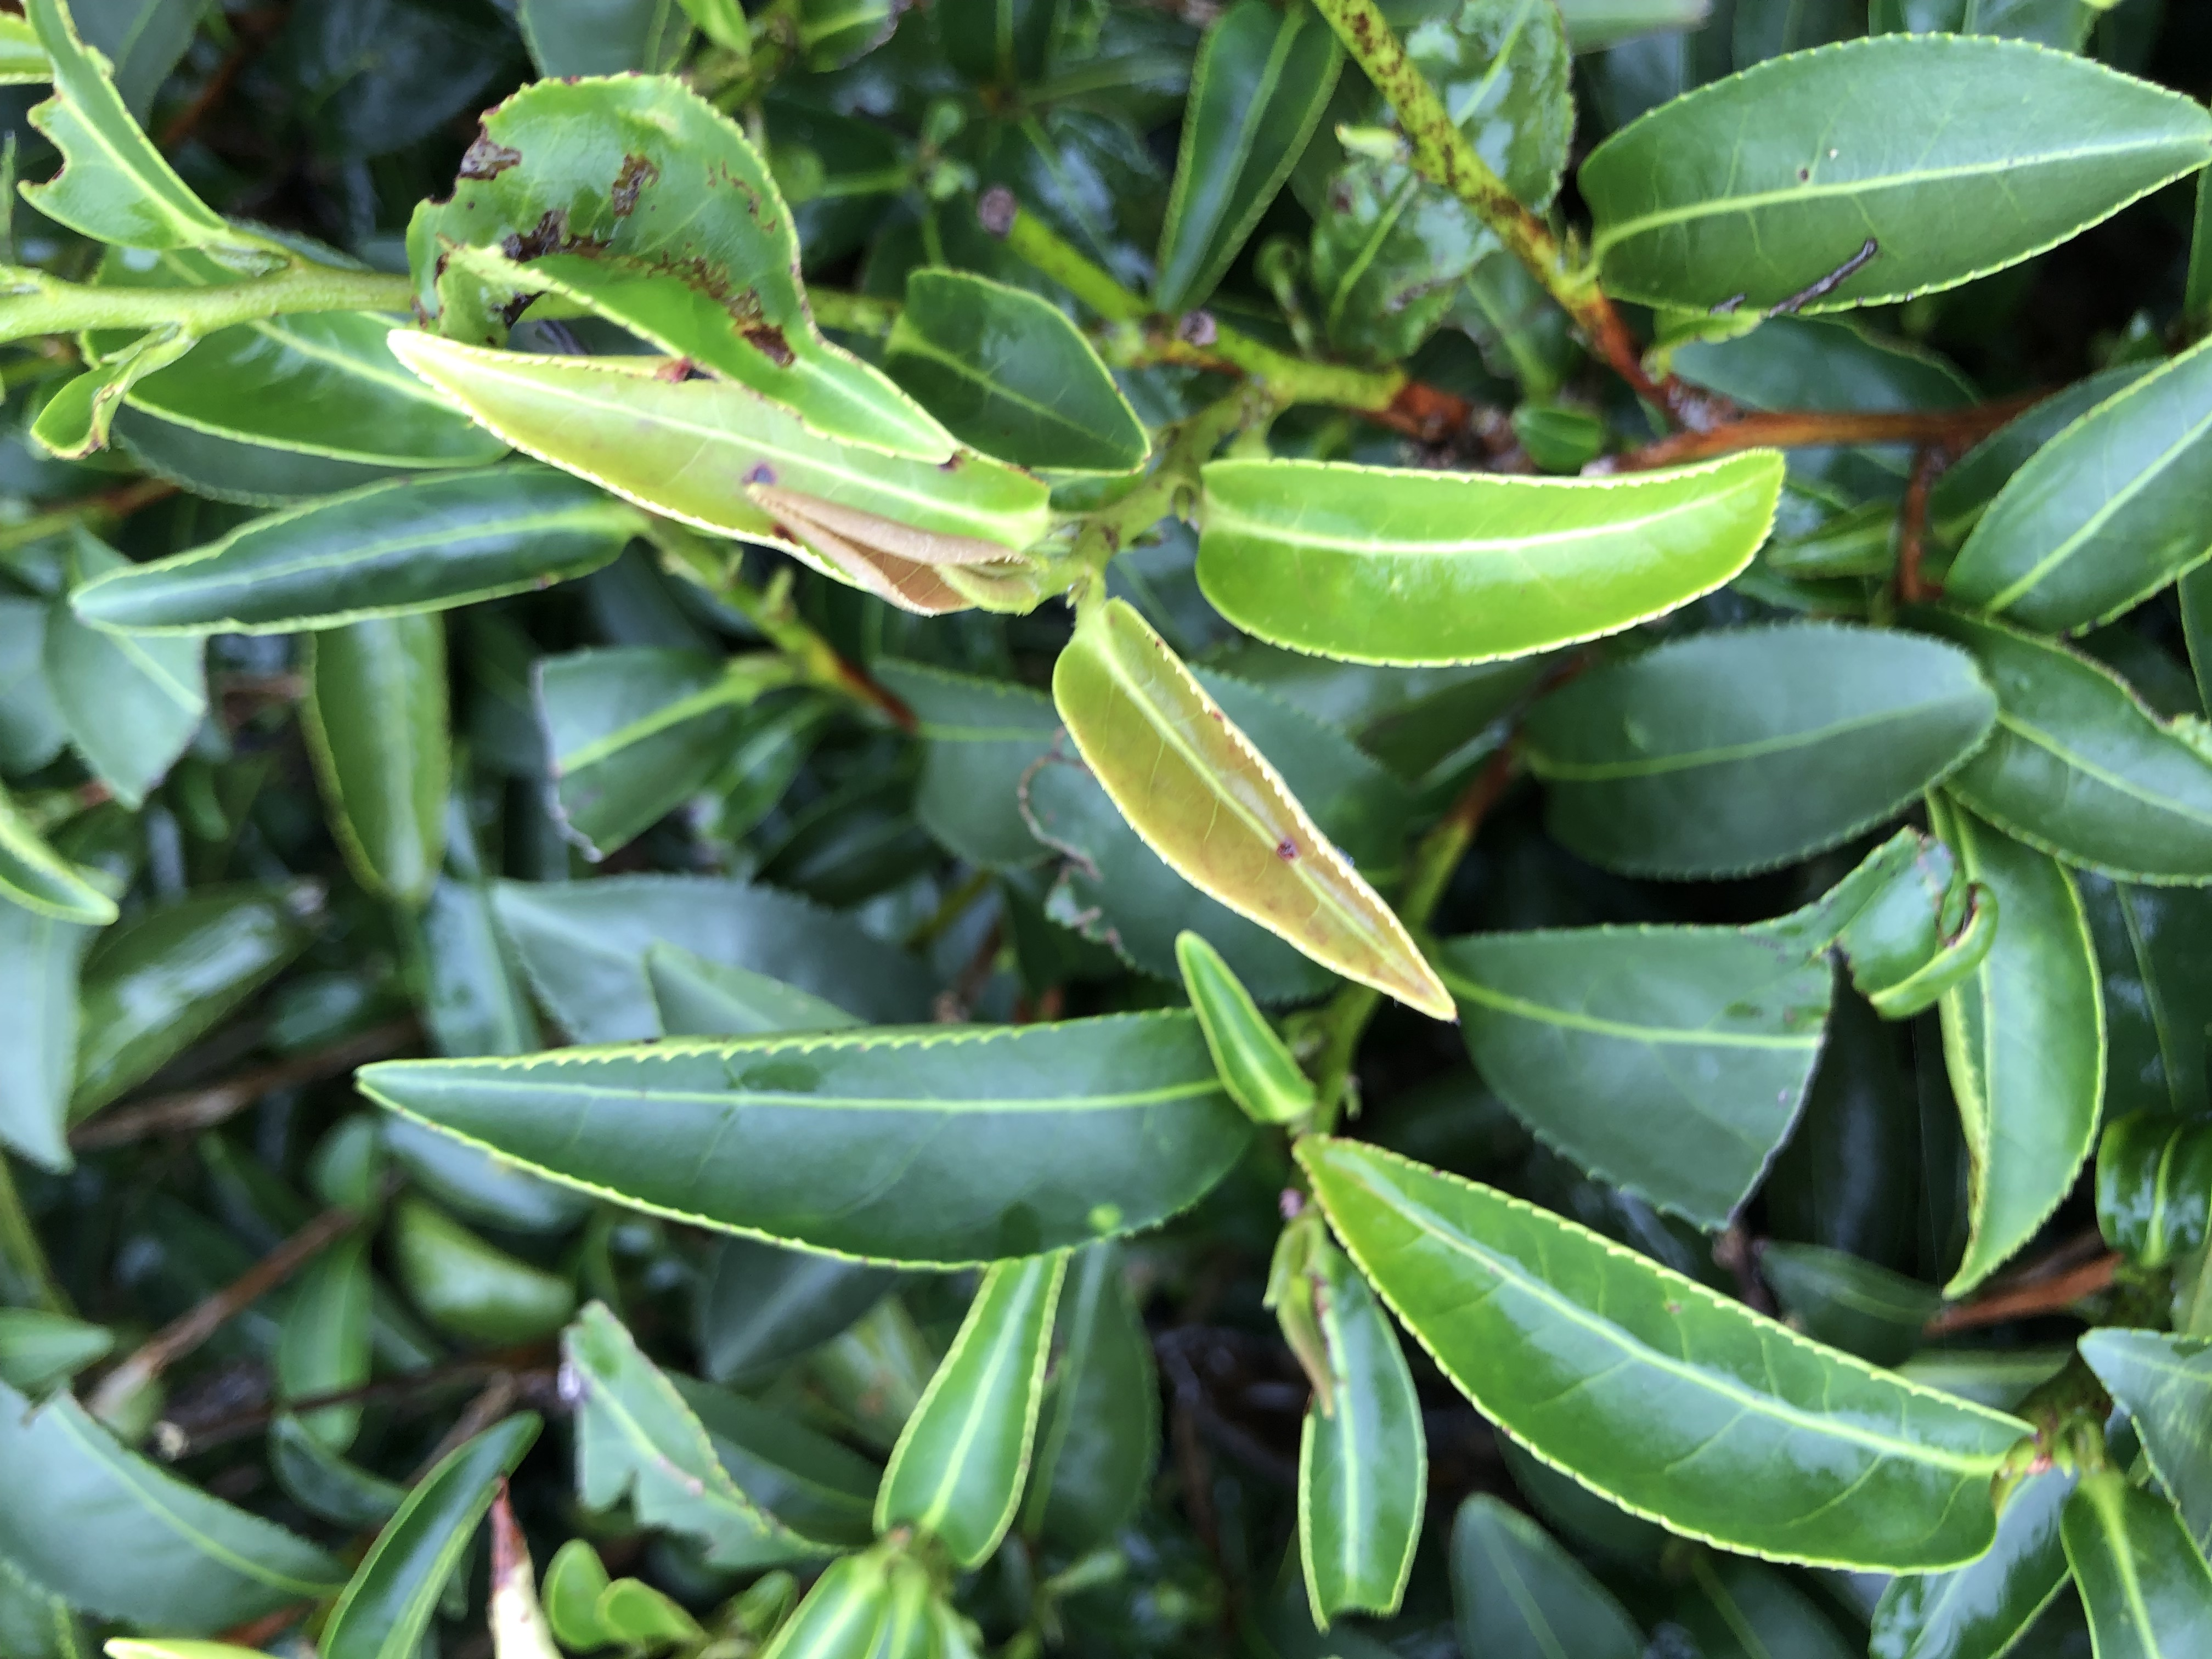formosa: (1052, 592, 1451, 1026)
mosquito_late: (397, 64, 841, 394)
